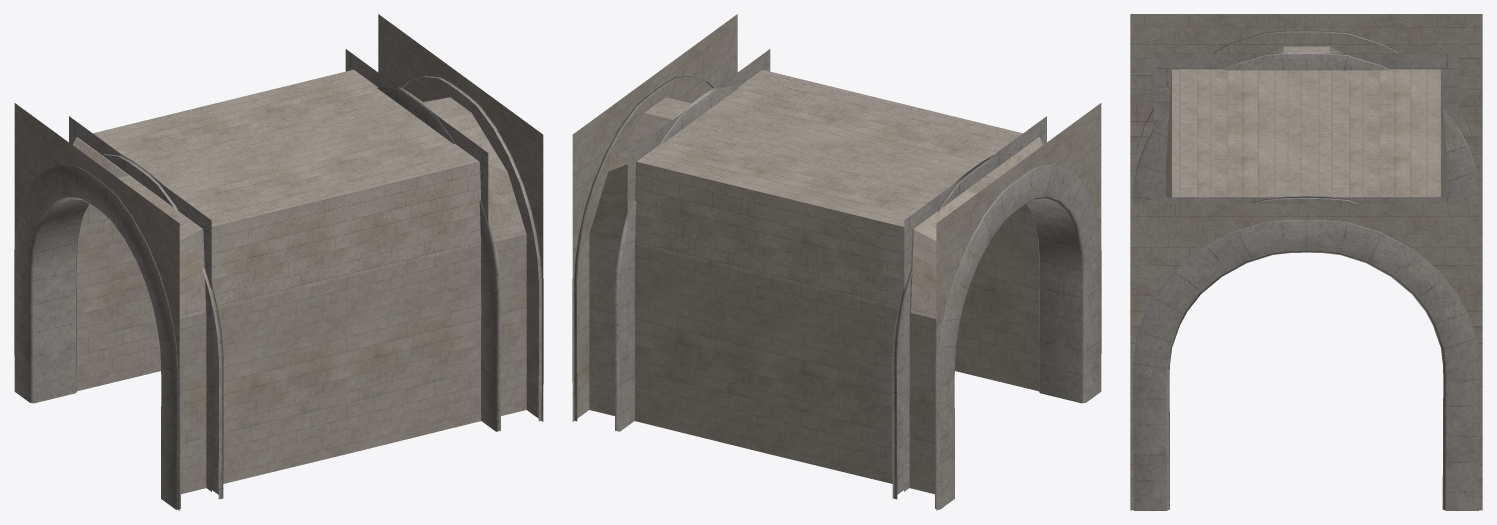
The model's file is SM_GCM_Wall01A.fbx.
3 views of the same model, side by side, from view 1: azimuth 30°, elevation 25°; view 2: azimuth 150°, elevation 25°; view 3: azimuth 270°, elevation 25° (orthographic). The views are drawn at different scales.
Visible parts, largest first — view 1: SM_GCM_Wall01A; view 2: SM_GCM_Wall01A; view 3: SM_GCM_Wall01A.
Boxes of the visible parts, x1,y1,x2,y2 form: SM_GCM_Wall01A: (14,14,543,510); SM_GCM_Wall01A: (572,14,1101,510); SM_GCM_Wall01A: (1130,14,1482,510).
Size of the model in its own units: 776 by 581 by 604.
Materials: 2 (2 with a texture image).
